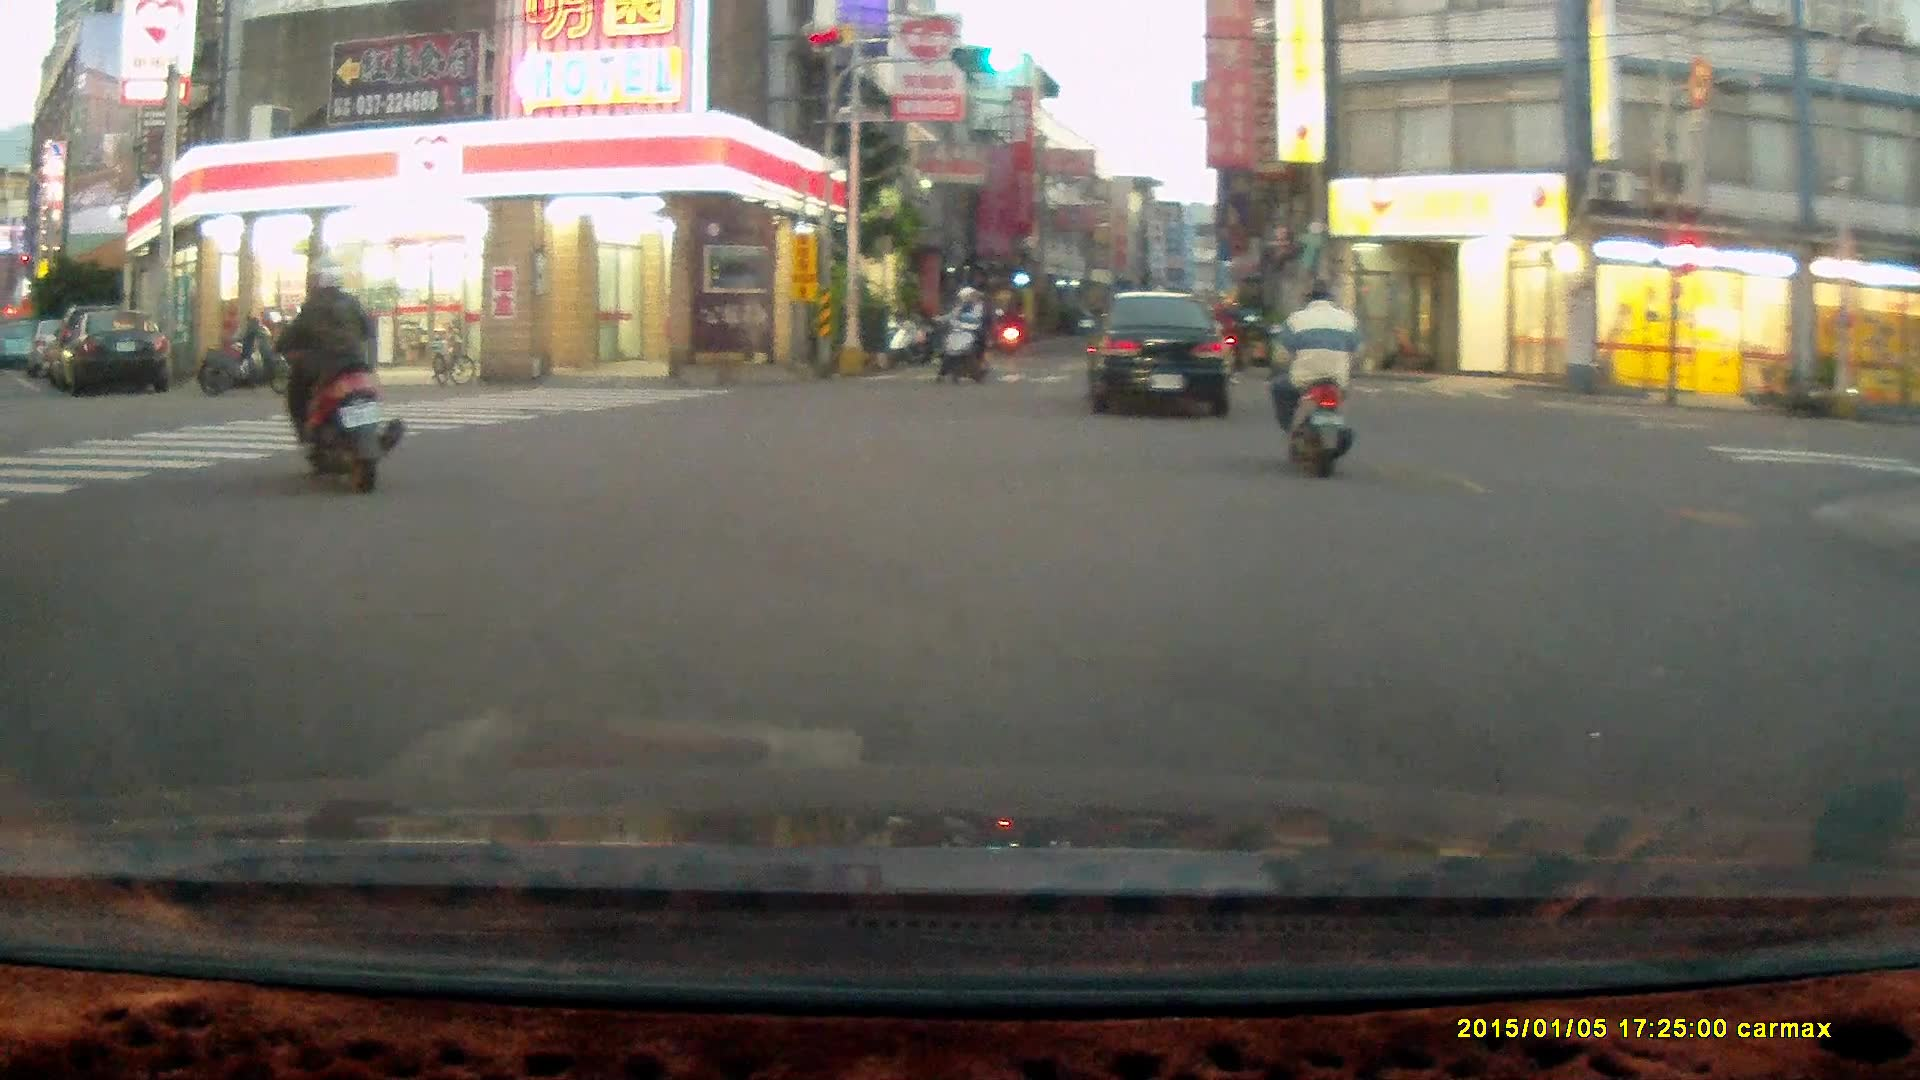rider: (264, 262, 407, 497), (1268, 278, 1358, 478), (934, 284, 992, 387), (1208, 292, 1243, 371)
vehicle: (1088, 287, 1235, 421), (70, 308, 179, 393)
